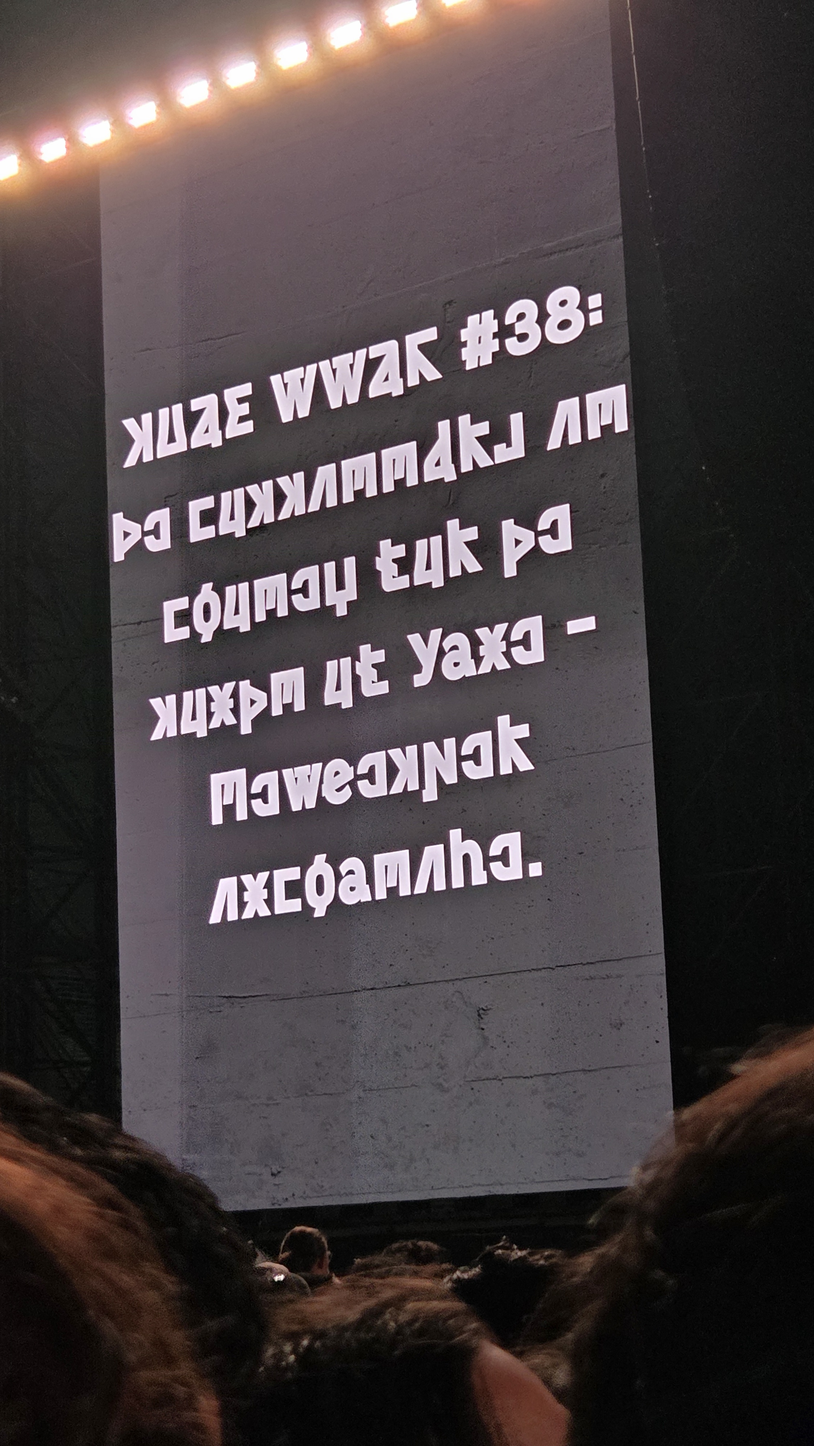3: (499, 294, 547, 361)
8: (539, 281, 590, 350)
A: (363, 334, 409, 404), (185, 388, 227, 454)
J: (401, 622, 448, 693)
M: (117, 407, 159, 473)
O: (151, 398, 192, 464)
P: (312, 342, 373, 415), (264, 357, 323, 429)
R: (400, 321, 448, 393)
S: (205, 763, 253, 831)
T: (218, 377, 259, 445)
TH: (108, 507, 146, 567)
a: (417, 413, 463, 488)
b: (416, 731, 464, 808)
c: (269, 862, 306, 919), (184, 491, 220, 547), (159, 592, 194, 647)
d: (318, 550, 363, 622)
e: (533, 499, 577, 558), (506, 610, 549, 669), (456, 726, 498, 784), (485, 827, 527, 885), (352, 746, 392, 803), (287, 560, 324, 616), (247, 766, 284, 821), (139, 503, 175, 556)
f: (350, 639, 394, 702), (371, 534, 414, 597)
i: (542, 392, 587, 456), (409, 839, 451, 899), (303, 458, 342, 517), (205, 872, 243, 929)
l: (299, 848, 341, 923), (187, 576, 227, 649)
m: (383, 740, 424, 799), (271, 467, 310, 525), (241, 475, 279, 533), (144, 689, 181, 745)
n: (470, 618, 516, 679), (236, 866, 276, 924), (203, 677, 241, 734)
o: (409, 530, 449, 593), (319, 652, 358, 714), (219, 577, 255, 637), (214, 483, 250, 542), (176, 683, 212, 742)
p: (277, 758, 327, 816)
r: (491, 709, 541, 781), (452, 408, 500, 478), (441, 513, 488, 583)
s: (580, 379, 633, 446), (376, 436, 423, 498), (369, 845, 416, 905), (336, 447, 382, 508), (249, 568, 293, 627), (266, 662, 310, 721)
t: (318, 754, 358, 809)
th: (496, 513, 541, 584), (234, 675, 273, 740)
u: (437, 628, 483, 685), (334, 852, 376, 909)
v: (444, 823, 493, 894)
y: (489, 407, 530, 469)
